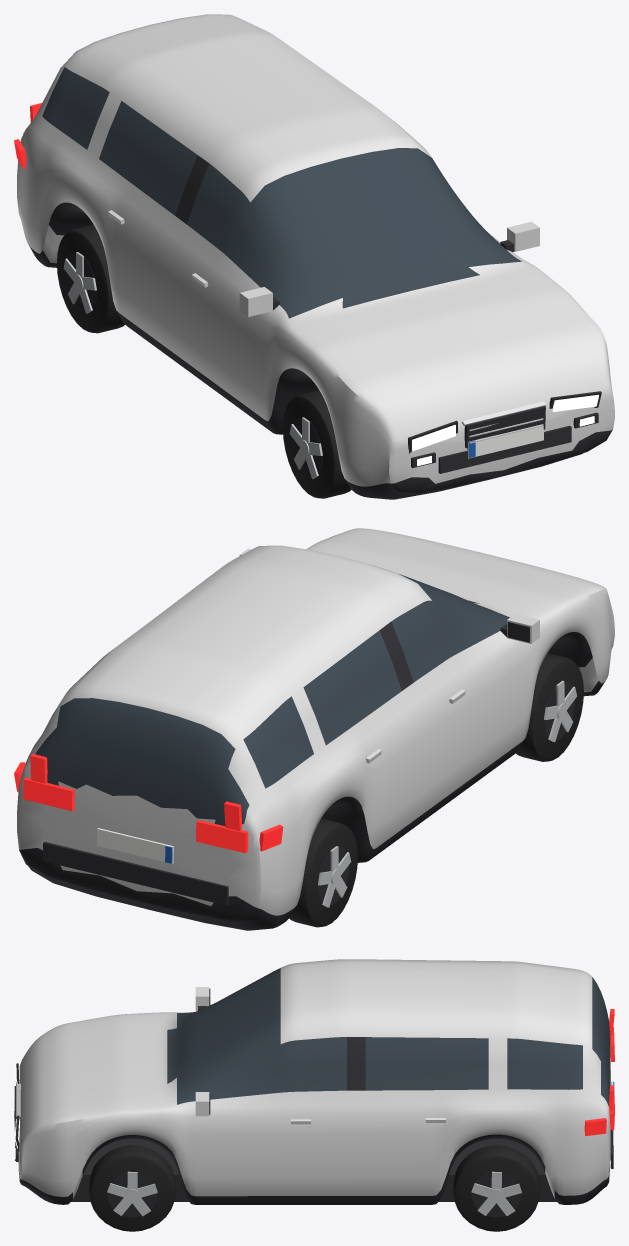
Rendered from car_mpv.glb.
3 renders of one model, top to bottom at view 1: azimuth 30°, elevation 25°; view 2: azimuth 150°, elevation 25°; view 3: azimuth 270°, elevation 25°, orthographic. The views are drawn at different scales.
Parts seen in each view (by area): view 1: car_mpv; view 2: car_mpv; view 3: car_mpv.
Boxes of the visible parts, x1=… form: car_mpv: x1=14, y1=14, x2=614, y2=499; car_mpv: x1=14, y1=528, x2=614, y2=930; car_mpv: x1=14, y1=959, x2=614, y2=1231.
Bounding box in the file's own units: 2.01 × 1.65 × 4.46.
